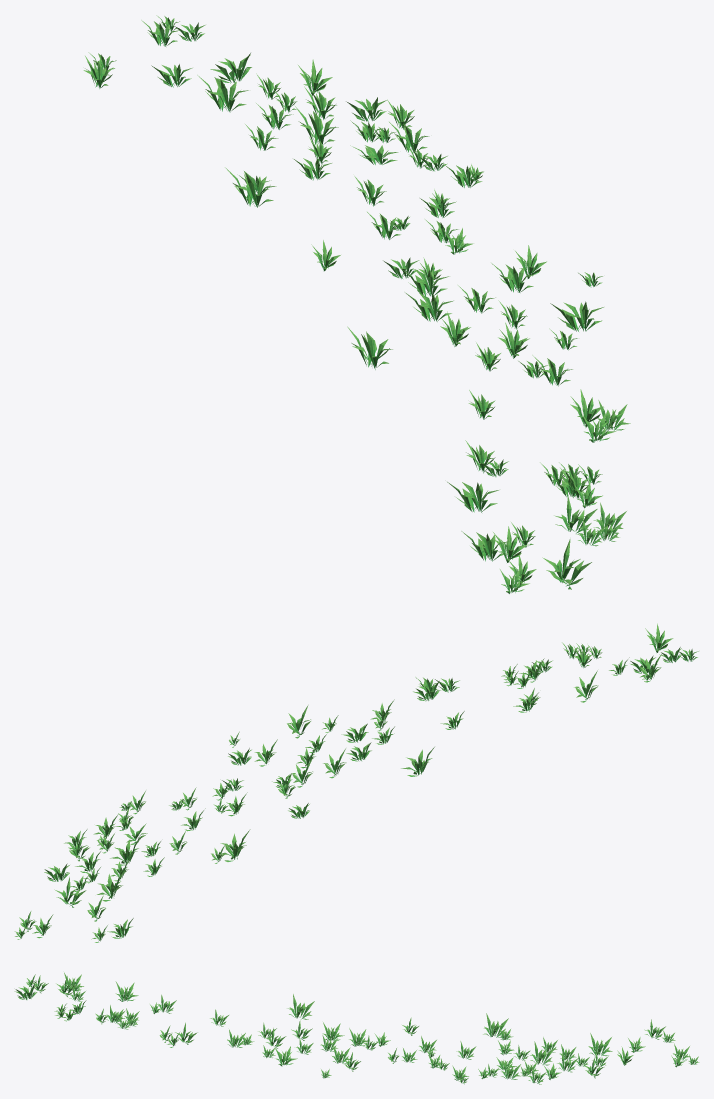
File: Area_13_34.fbx
The picture shows the model from 3 angles, top to bottom: view 1: azimuth 30°, elevation 25°; view 2: azimuth 150°, elevation 25°; view 3: azimuth 270°, elevation 25°; orthographic projection. The views are drawn at different scales.
Visible parts, largest first — view 1: Area_13_34; view 2: Area_13_34; view 3: Area_13_34.
Boxes of the visible parts, <box> form: Area_13_34: <box>83,15,630,593</box>; Area_13_34: <box>14,623,698,942</box>; Area_13_34: <box>14,972,699,1084</box>.
Bounding box in the file's own units: 1057 × 103 × 3004.
